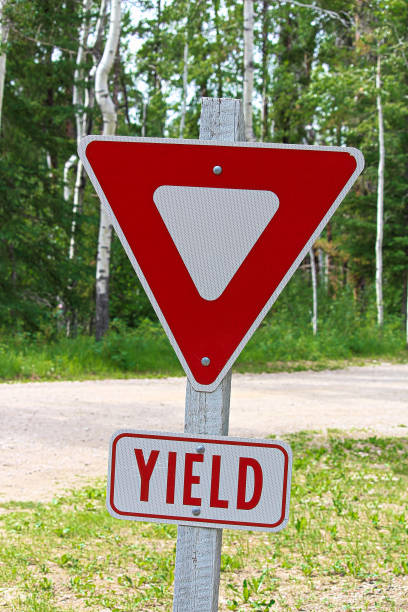sign_yield: (75, 131, 365, 391)
